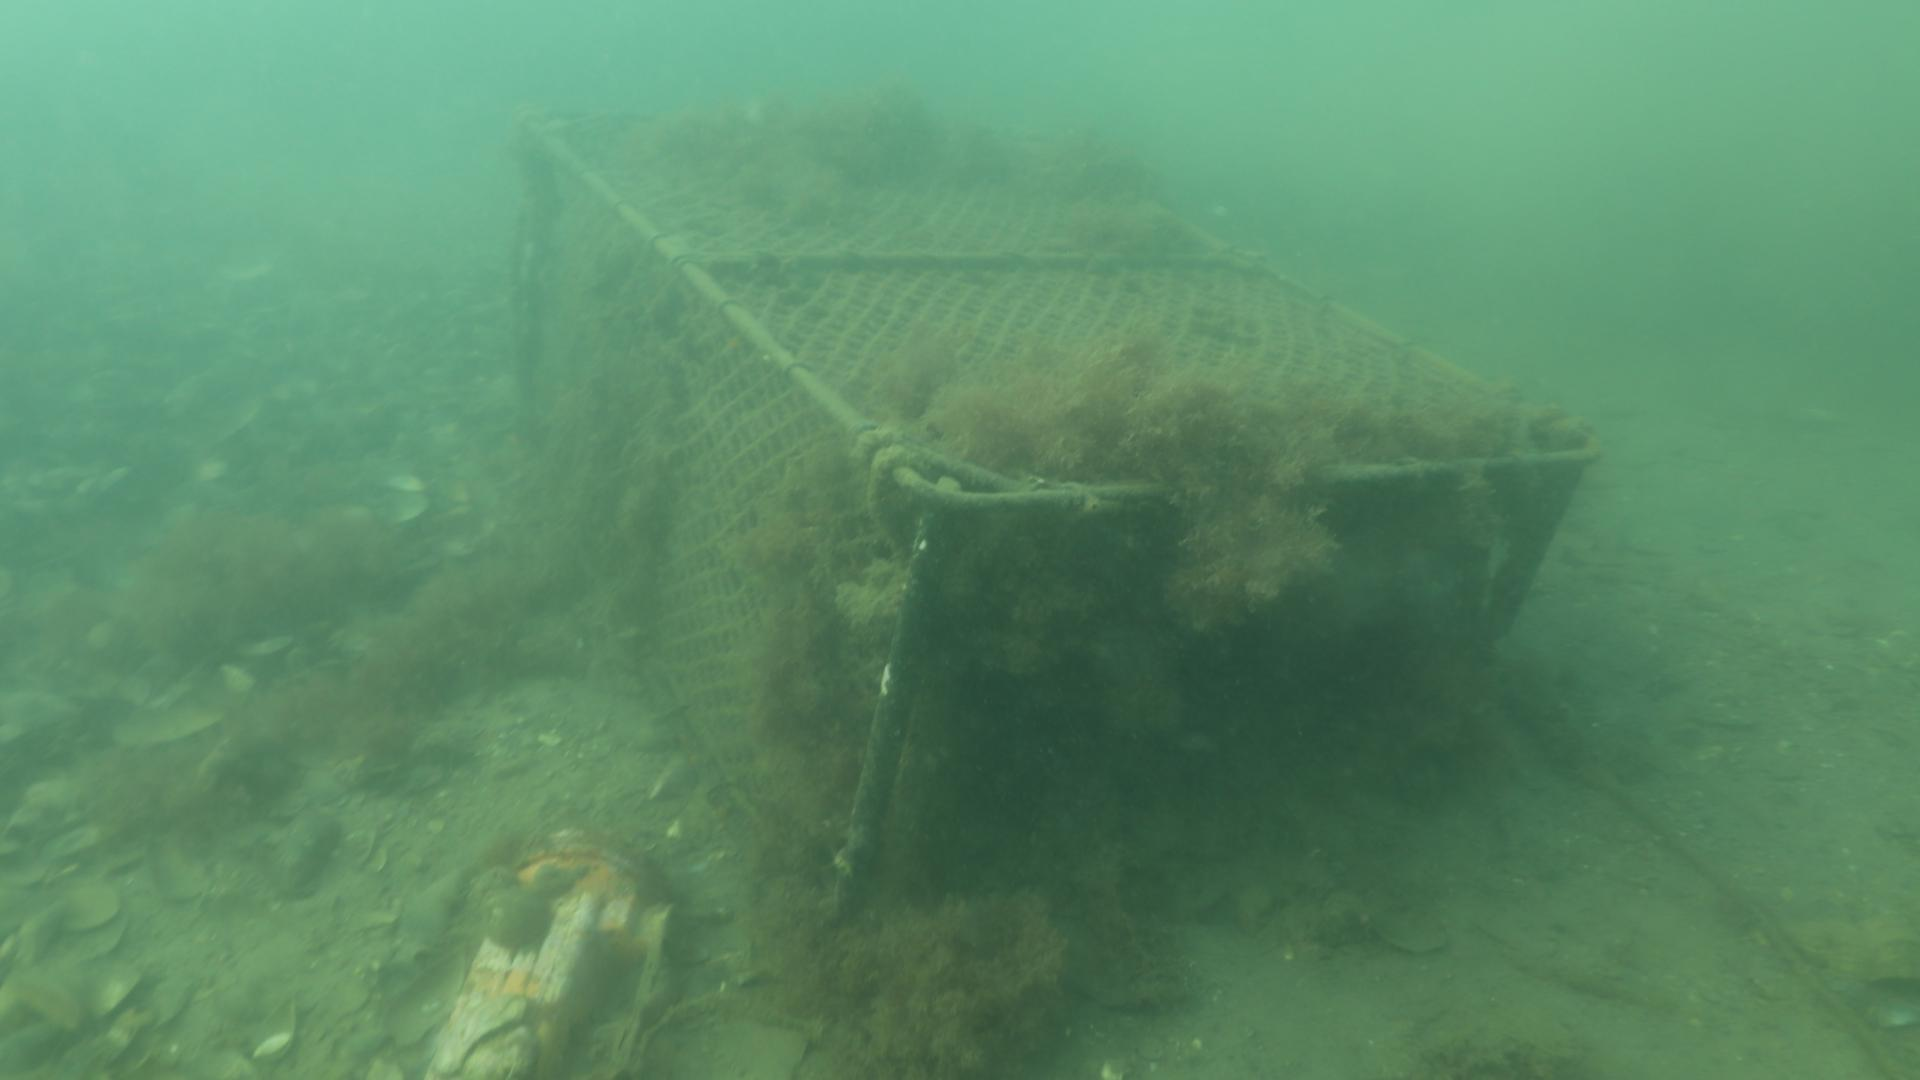rectangular fish trap: (518, 73, 1609, 930)
